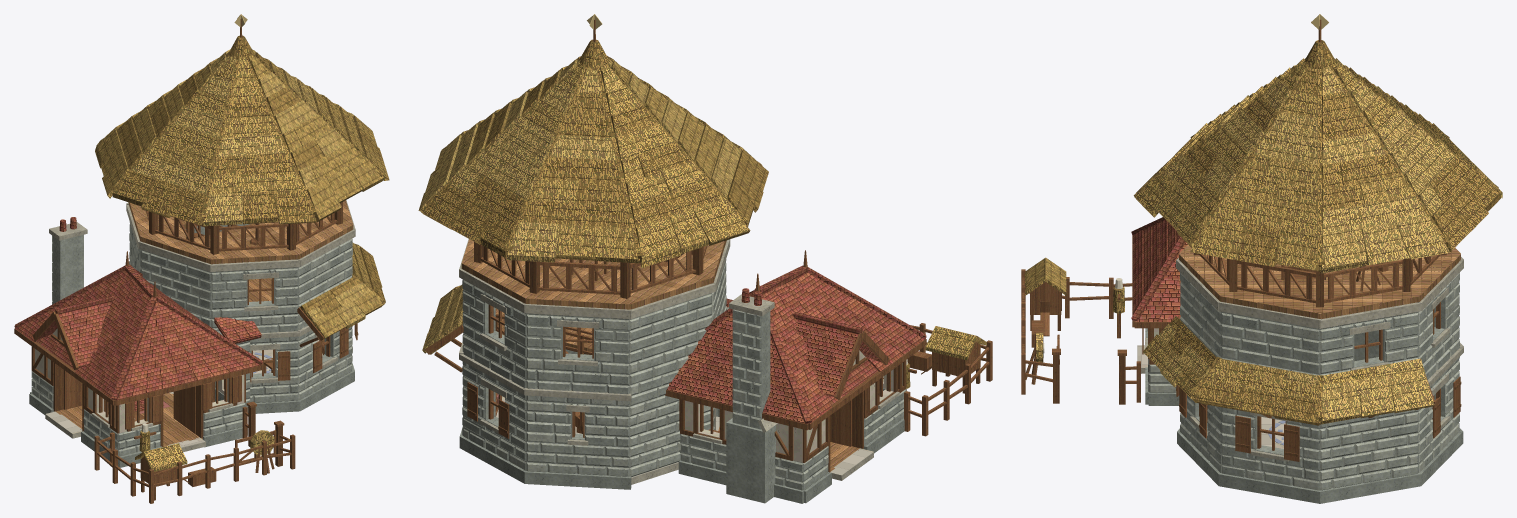
File: mage.glb
3 renders of one model, left to right at view 1: azimuth 30°, elevation 25°; view 2: azimuth 150°, elevation 25°; view 3: azimuth 270°, elevation 25°, orthographic. The views are drawn at different scales.
Parts seen in each view (by area): view 1: Mage_RoofThatch, Mage_Roof, Mage_Shell, Mage_UpperShell, Mage_Yard, Mage_UpperFloorObservatoryTiles, Mage_UpperGallery, Mage_Door, Mage_UpperFloorObservatory, Mage_FloorGroundTilesBoards, Mage_FloorGroundTilesFlags, Mage_FloorGround (+1 smaller); view 2: Mage_RoofThatch, Mage_Roof, Mage_Shell, Mage_UpperShell, Mage_UpperFloorObservatoryTiles, Mage_Yard, Mage_UpperGallery, Mage_UpperFloorObservatory, Mage_Door, Mage_FloorGround; view 3: Mage_RoofThatch, Mage_Shell, Mage_UpperShell, Mage_Roof, Mage_Yard, Mage_UpperFloorObservatoryTiles, Mage_UpperGallery, Mage_UpperFloorObservatory, Mage_FloorGroundTilesFlags.
Part boxes in pixels (left/top/right/bottom): Mage_RoofThatch: left=95, top=49, right=389, bottom=339; Mage_Roof: left=14, top=14, right=384, bottom=405; Mage_Shell: left=29, top=323, right=358, bottom=467; Mage_UpperShell: left=126, top=200, right=355, bottom=332; Mage_Yard: left=94, top=401, right=295, bottom=503; Mage_UpperFloorObservatoryTiles: left=130, top=200, right=353, bottom=259; Mage_UpperGallery: left=146, top=202, right=342, bottom=254; Mage_Door: left=64, top=370, right=195, bottom=433; Mage_UpperFloorObservatory: left=128, top=202, right=353, bottom=264; Mage_FloorGroundTilesBoards: left=56, top=393, right=199, bottom=446; Mage_FloorGroundTilesFlags: left=46, top=340, right=322, bottom=447; Mage_FloorGround: left=45, top=352, right=271, bottom=451; Mage_RoofThatch: left=418, top=56, right=768, bottom=353; Mage_Roof: left=425, top=14, right=926, bottom=503; Mage_Shell: left=459, top=307, right=906, bottom=503; Mage_UpperShell: left=459, top=239, right=730, bottom=395; Mage_UpperFloorObservatoryTiles: left=462, top=239, right=724, bottom=303; Mage_Yard: left=904, top=323, right=992, bottom=436; Mage_UpperGallery: left=474, top=242, right=707, bottom=298; Mage_UpperFloorObservatory: left=461, top=240, right=726, bottom=309; Mage_Door: left=830, top=400, right=851, bottom=446; Mage_FloorGround: left=631, top=448, right=873, bottom=484; Mage_RoofThatch: left=1133, top=58, right=1502, bottom=425; Mage_Shell: left=1142, top=328, right=1463, bottom=503; Mage_UpperShell: left=1176, top=257, right=1463, bottom=379; Mage_Roof: left=1131, top=14, right=1498, bottom=424; Mage_Yard: left=1021, top=257, right=1140, bottom=404; Mage_UpperFloorObservatoryTiles: left=1179, top=244, right=1460, bottom=313; Mage_UpperGallery: left=1193, top=253, right=1446, bottom=307; Mage_UpperFloorObservatory: left=1179, top=254, right=1460, bottom=318; Mage_FloorGroundTilesFlags: left=1137, top=345, right=1285, bottom=448.
Size of the model in its own units: 14.65 by 14.43 by 14.62.
Materials: 32 (24 with a texture image).
